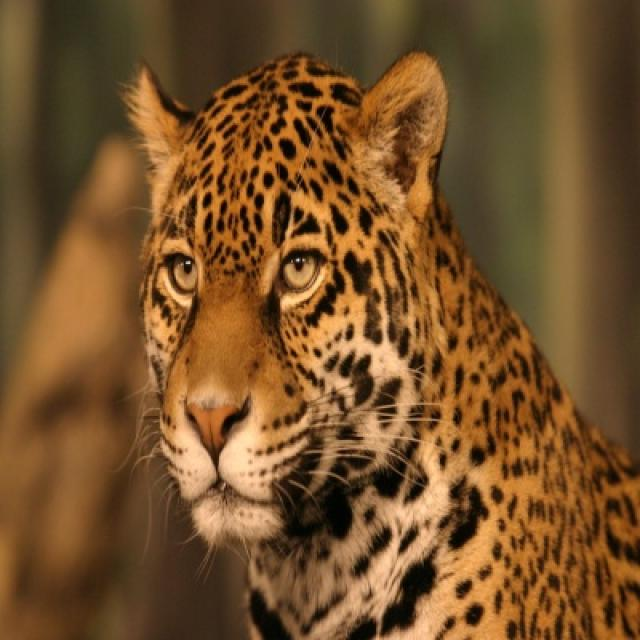Jaguar: (114, 51, 638, 638)
